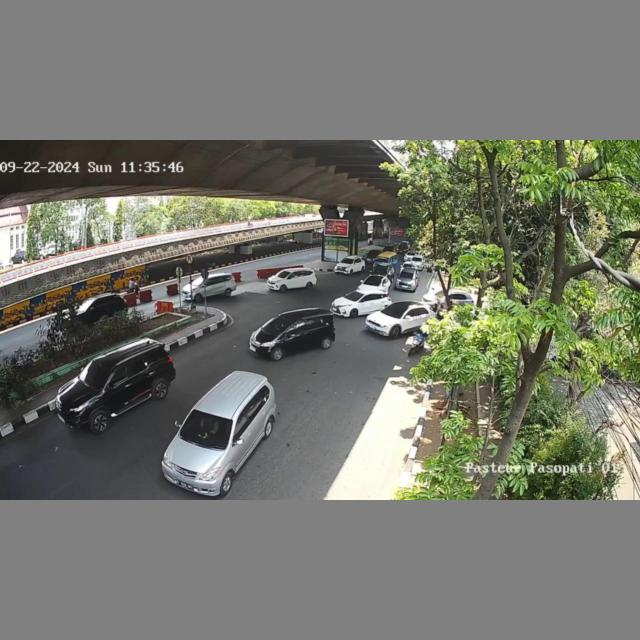windshield: (180, 410, 232, 449), (75, 362, 117, 386), (262, 315, 292, 335), (382, 303, 406, 318), (344, 290, 364, 302), (362, 277, 383, 286), (399, 270, 416, 280)
